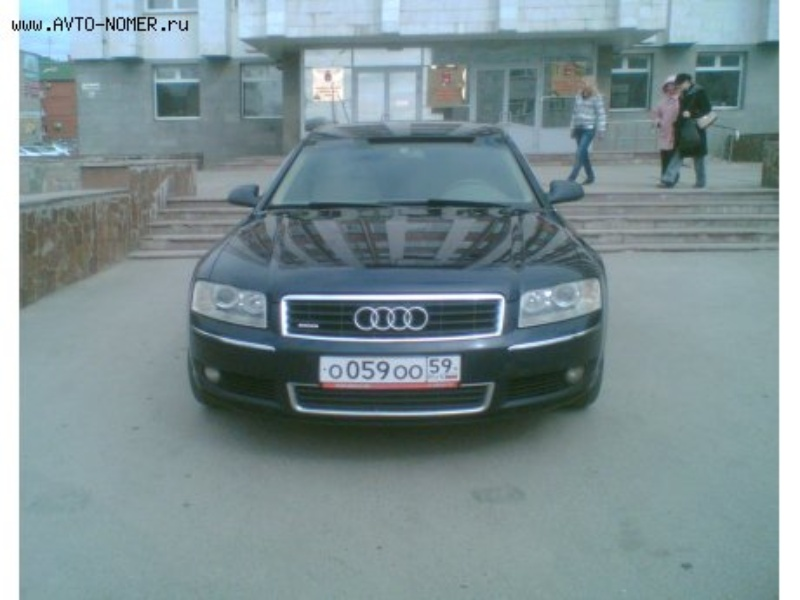car: (187, 121, 609, 421)
person: (659, 73, 718, 188), (568, 81, 606, 184), (652, 75, 677, 173)
plate: (319, 353, 460, 381)
